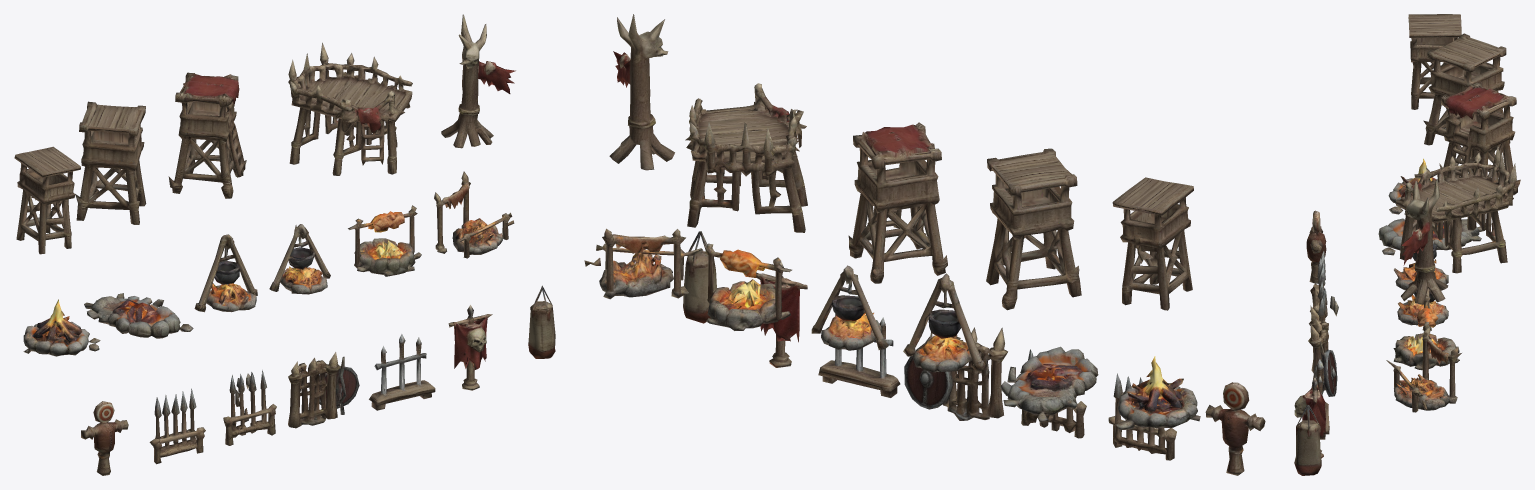
File: outpost.glb
3 renders of one model, left to right at view 1: azimuth 30°, elevation 25°; view 2: azimuth 150°, elevation 25°; view 3: azimuth 270°, elevation 25°, orthographic. The views are drawn at different scales.
Visible parts, largest first — view 1: frame; view 2: frame; view 3: frame.
Part boxes in pixels (x1=…): frame: x1=14, y1=14, x2=555, y2=475; frame: x1=584, y1=14, x2=1265, y2=475; frame: x1=1294, y1=14, x2=1520, y2=475.
Bounding box in the file's own units: 15.98 × 9.87 × 6.56.
Materials: 1 (1 with a texture image).
